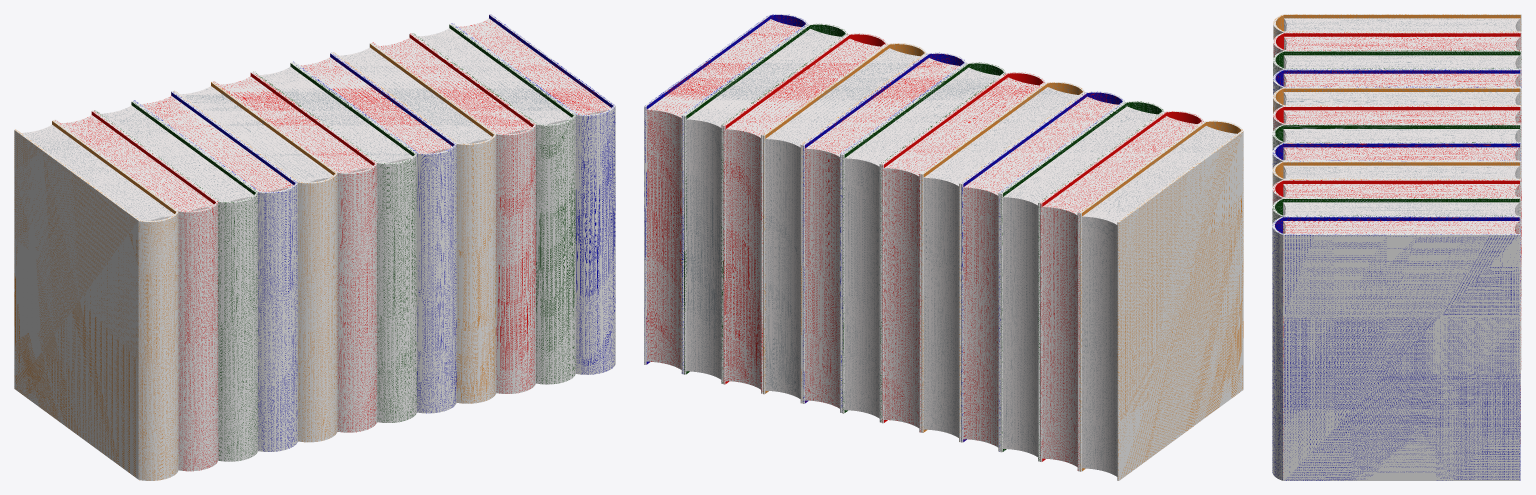
3 views of the same model, side by side, from view 1: azimuth 30°, elevation 25°; view 2: azimuth 150°, elevation 25°; view 3: azimuth 270°, elevation 25° (orthographic). The views are drawn at different scales.
Visible parts, largest first — view 1: Component_3 (×24); view 2: Component_3 (×30); view 3: Component_3 (×30).
Boxes of the visible parts, left/top/right/bottom form: Component_3 (×24): left=14, top=14, right=615, bottom=480; Component_3 (×30): left=644, top=14, right=1243, bottom=480; Component_3 (×30): left=1272, top=14, right=1521, bottom=480.
Size of the model in its own units: 27.94 by 13.33 by 14.52.
